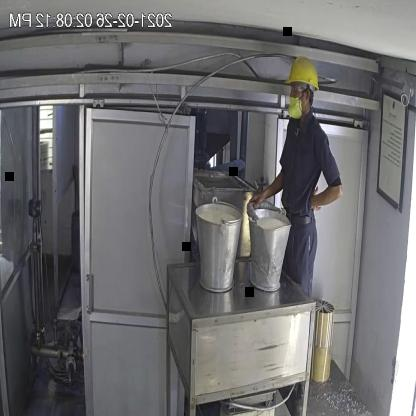helmet: (280, 48, 324, 99)
